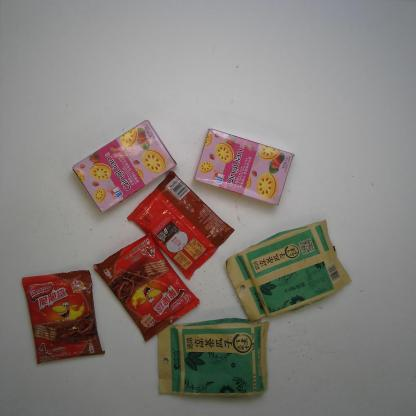Dessert: (94, 232, 200, 343), (128, 173, 235, 279), (71, 119, 176, 213), (22, 270, 107, 365), (193, 128, 296, 206)
Dried Food: (225, 220, 353, 322), (154, 318, 269, 398)
